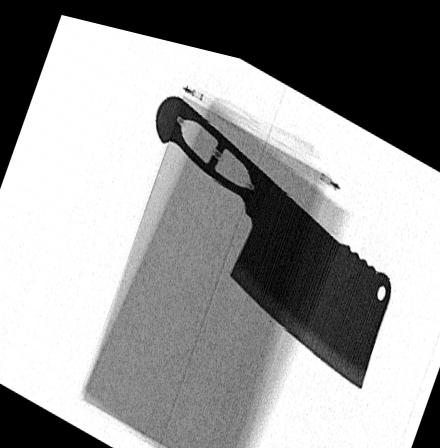Knife: (155, 86, 392, 372)
